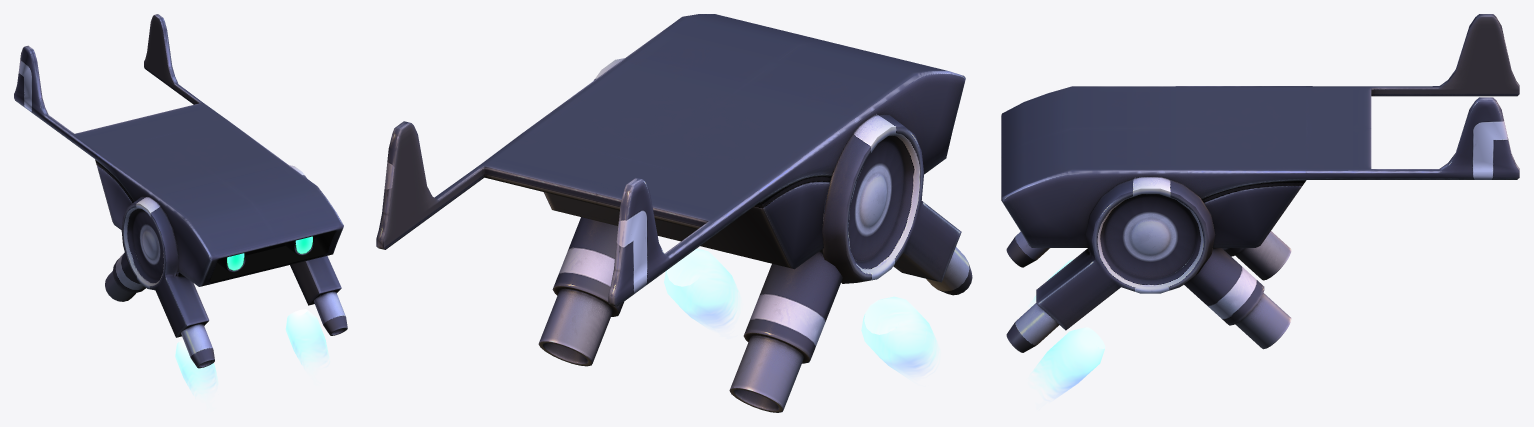
File: drone.gltf
3 renders of one model, left to right at view 1: azimuth 30°, elevation 25°; view 2: azimuth 150°, elevation 25°; view 3: azimuth 270°, elevation 25°, orthographic. The views are drawn at different scales.
Parts seen in each view (by area): view 1: Box001, Object002_Material #5_0; view 2: Box001, Object002_Material #5_0; view 3: Box001, Object002_Material #5_0.
Boxes of the visible parts, x1,y1,x2,y2 form: Box001: (14, 14, 347, 368); Object002_Material #5_0: (175, 309, 328, 396); Box001: (376, 14, 972, 412); Object002_Material #5_0: (664, 248, 938, 376); Box001: (1001, 14, 1519, 352); Object002_Material #5_0: (1033, 259, 1105, 398).
Bounding box in the file's own units: 0.1965 × 0.2935 × 0.4331.
Materials: 2 (2 with a texture image).
